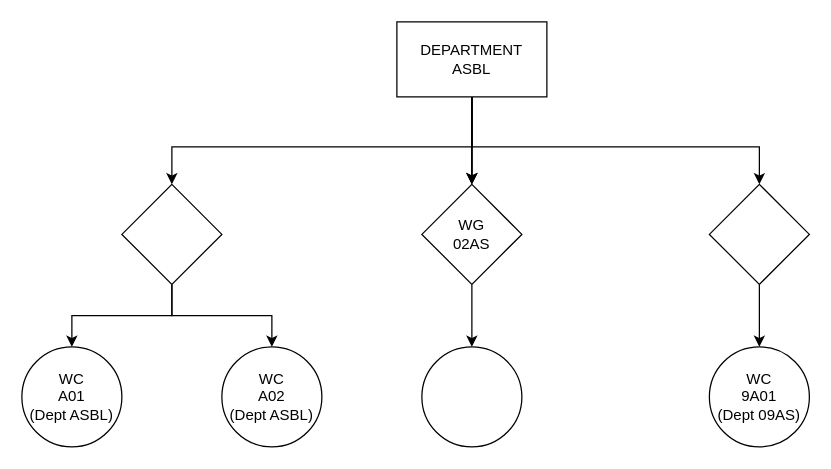
This 831x469 diagram has some shape labels left out. The centre of each missing label's shape, as x and y in pixels:
"WC 2A01 (Dept 02AS)" belongs at [471,396].
"WG 09AS" belongs at [758,233].
"WG ASBL" belongs at [171,233].
